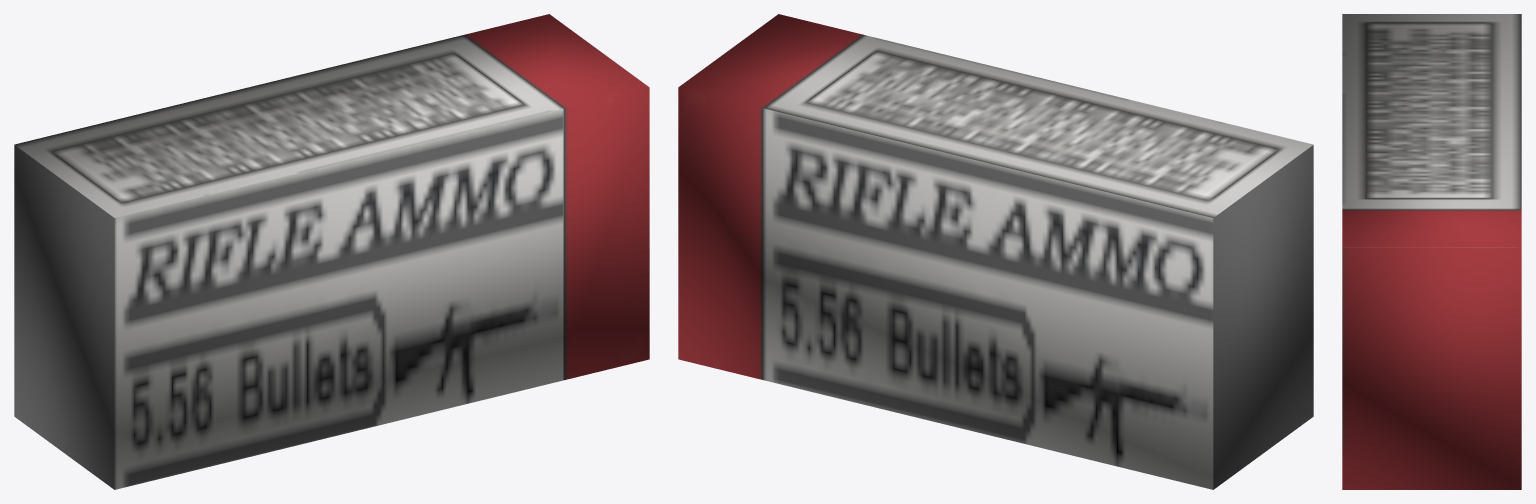
File: Rifle762AmmoBox.fbx
3 views of the same model, side by side, from view 1: azimuth 30°, elevation 25°; view 2: azimuth 150°, elevation 25°; view 3: azimuth 270°, elevation 25° (orthographic). The views are drawn at different scales.
Parts seen in each view (by area): view 1: RifleAmmoBox.001; view 2: RifleAmmoBox.001; view 3: RifleAmmoBox.001.
Boxes of the visible parts, box(x1,y1,x2,y2) form: RifleAmmoBox.001: box(14, 14, 649, 489); RifleAmmoBox.001: box(678, 14, 1313, 489); RifleAmmoBox.001: box(1342, 14, 1521, 489).
Size of the model in its own units: 0.2247 by 0.1091 by 0.073.
